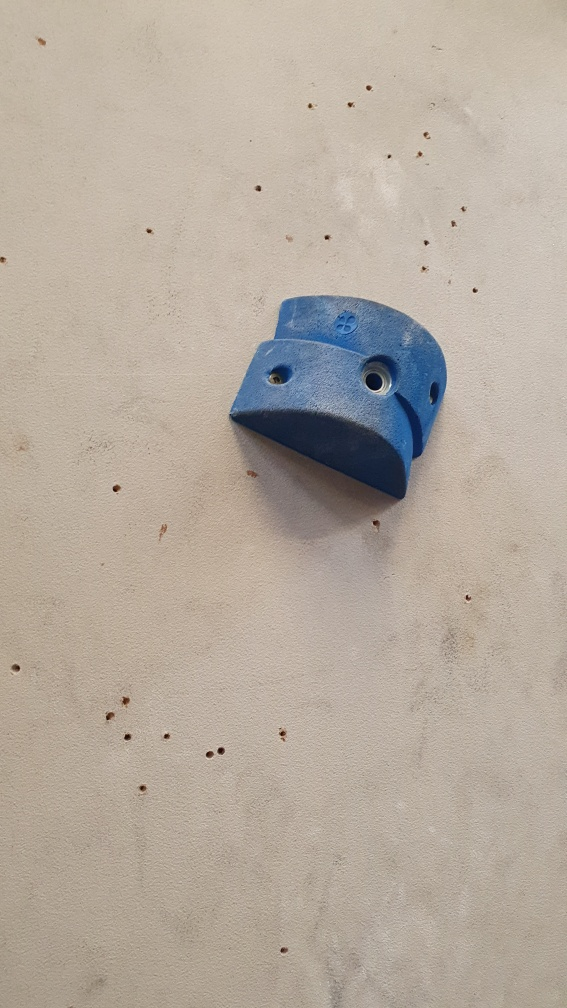Pinch: (233, 291, 451, 499)
